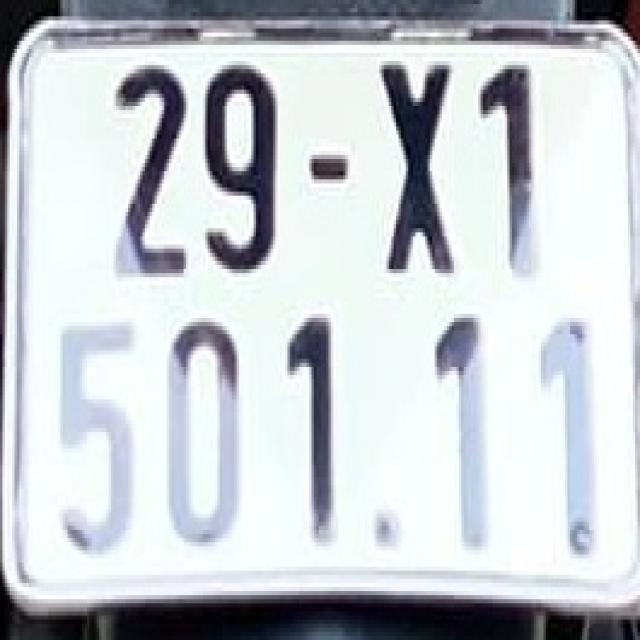0: (160, 310, 246, 550)
1: (531, 306, 599, 554), (428, 306, 496, 550), (280, 302, 348, 542), (476, 52, 546, 282)
2: (106, 52, 191, 282)
5: (53, 306, 140, 558)
9: (198, 53, 282, 277)
X: (376, 49, 462, 278)
